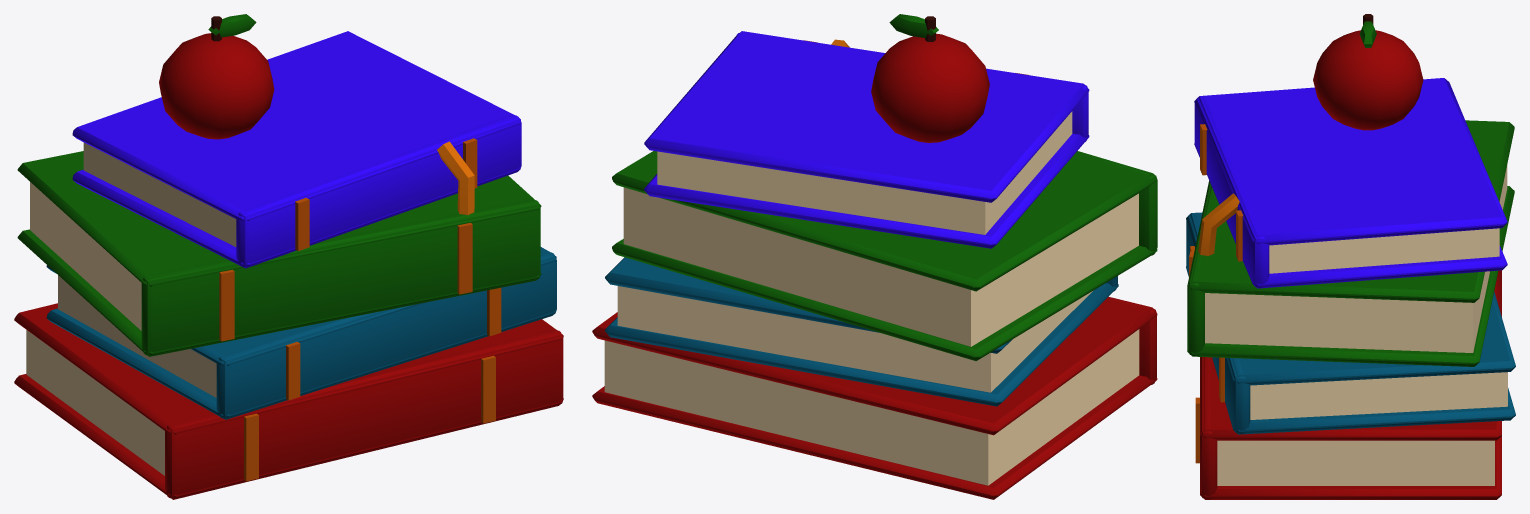
File: BookStack.obj
3 views of the same model, side by side, from view 1: azimuth 30°, elevation 25°; view 2: azimuth 150°, elevation 25°; view 3: azimuth 270°, elevation 25° (orthographic). The views are drawn at different scales.
Parts seen in each view (by area): view 1: BookStack; view 2: BookStack; view 3: BookStack.
Boxes of the visible parts, x1,y1,x2,y2 form: BookStack: (14,14,563,499); BookStack: (592,14,1157,499); BookStack: (1186,14,1515,499).
Bounding box in the file's own units: 2.65 × 2.34 × 1.91.
